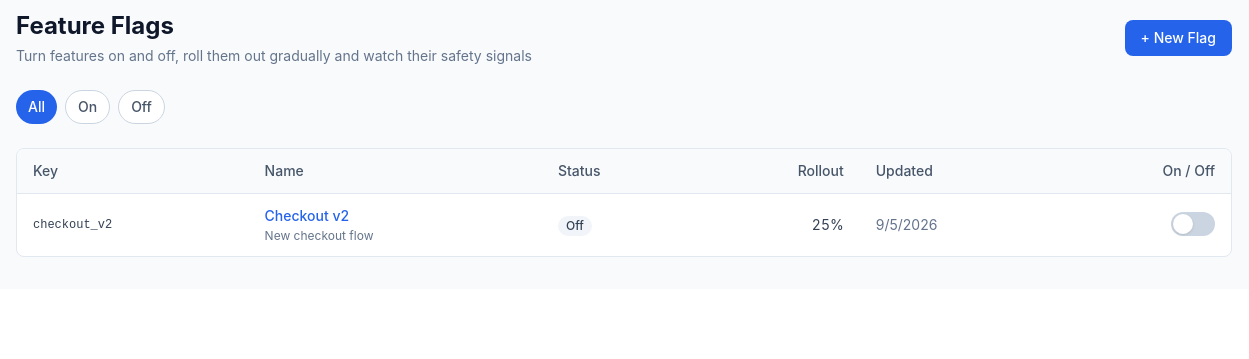
Test: FeatureFlagsPage › sends the upper-cased status filter and shows the filtered empty state
Expected: the element with test id "flags-table" is shown, [16,148,1232,257]
Click the button with test id "flag-filter-active".
click(88, 107)  # box [65,90,110,124]
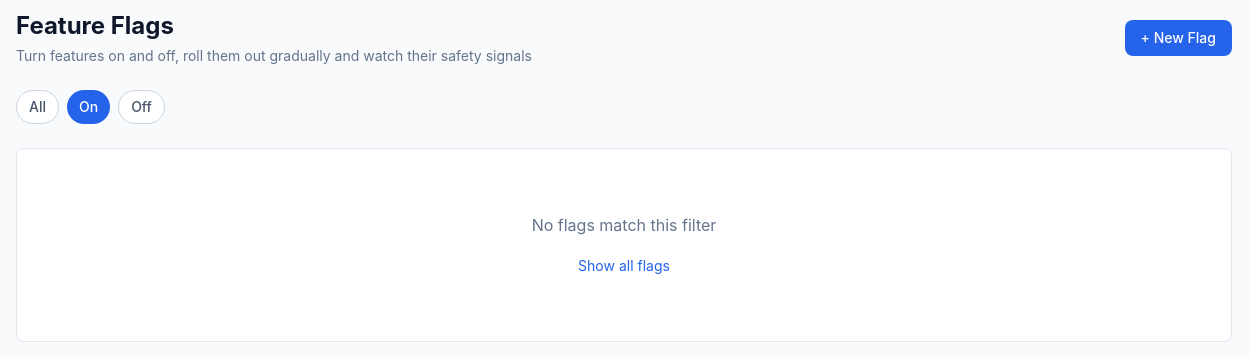
Expected: the element with test id "flags-empty" shows "No flags match this filter", [532,215,716,235]
